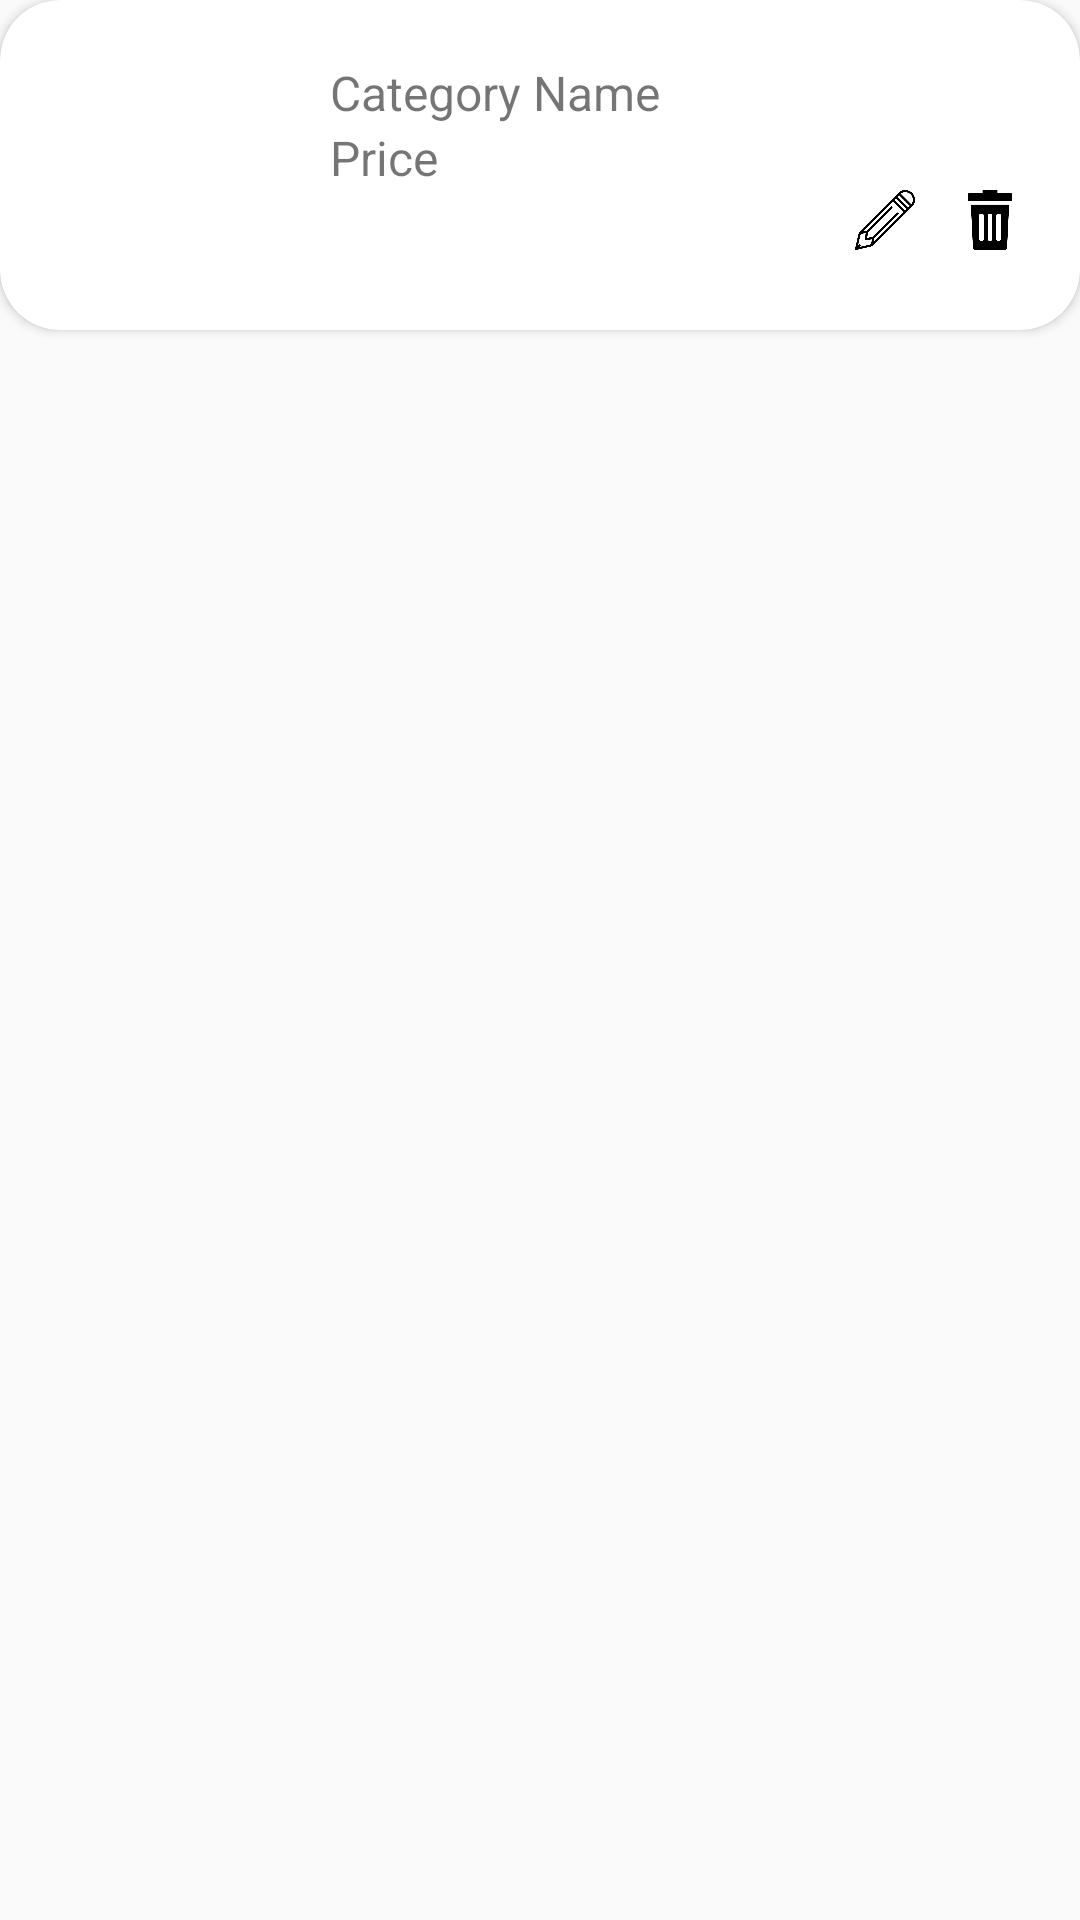

Named icons in this screenshot (1080x1920) and their centers, [x,y]:
delete: [990,220]
edit: [885,220]
